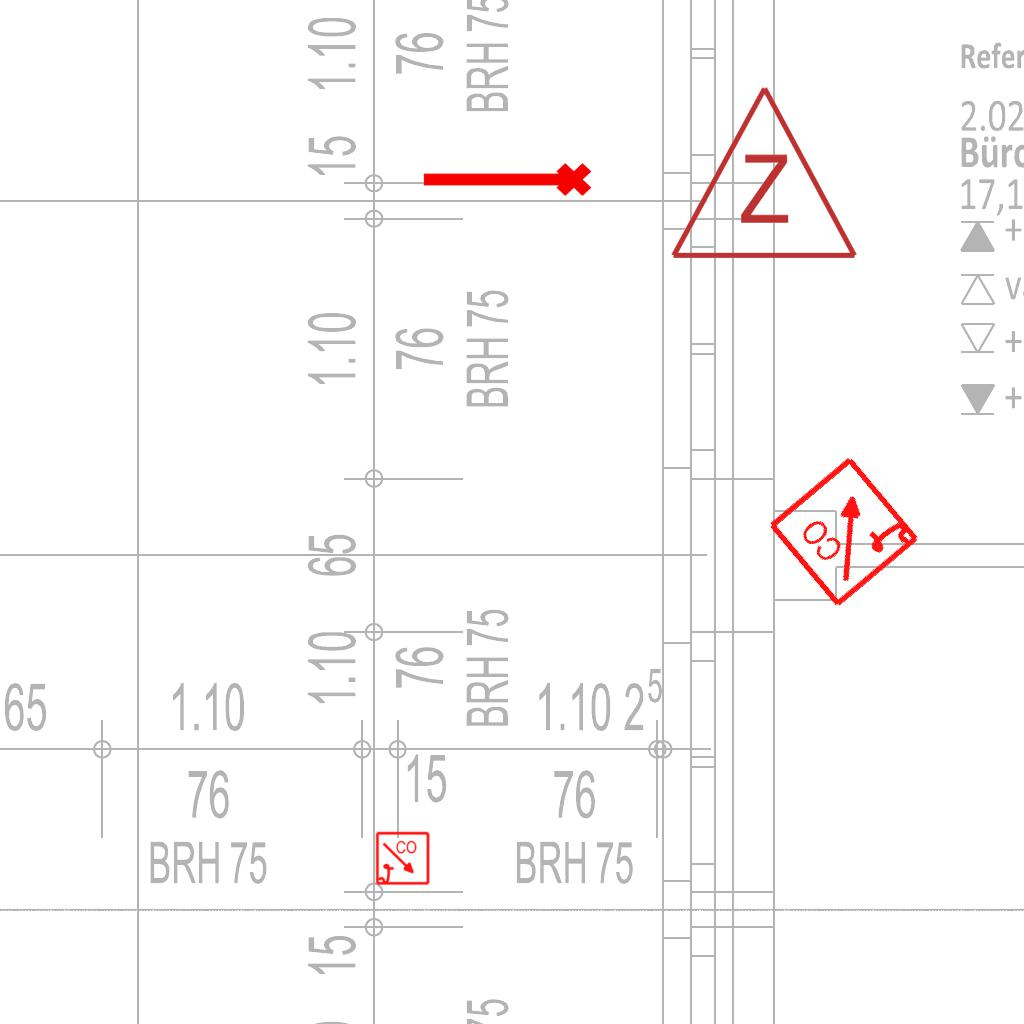ASR_Ansaugoeffnung: (418, 159, 594, 205)
ROA_Rauchmelder_optisch_mit_Signalgeber_(Sockelsirene): (764, 450, 925, 611), (375, 831, 431, 887)
Zimmersignalleuchte: (664, 73, 860, 273)
